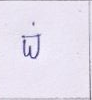anusvara: (32, 22, 35, 26)
